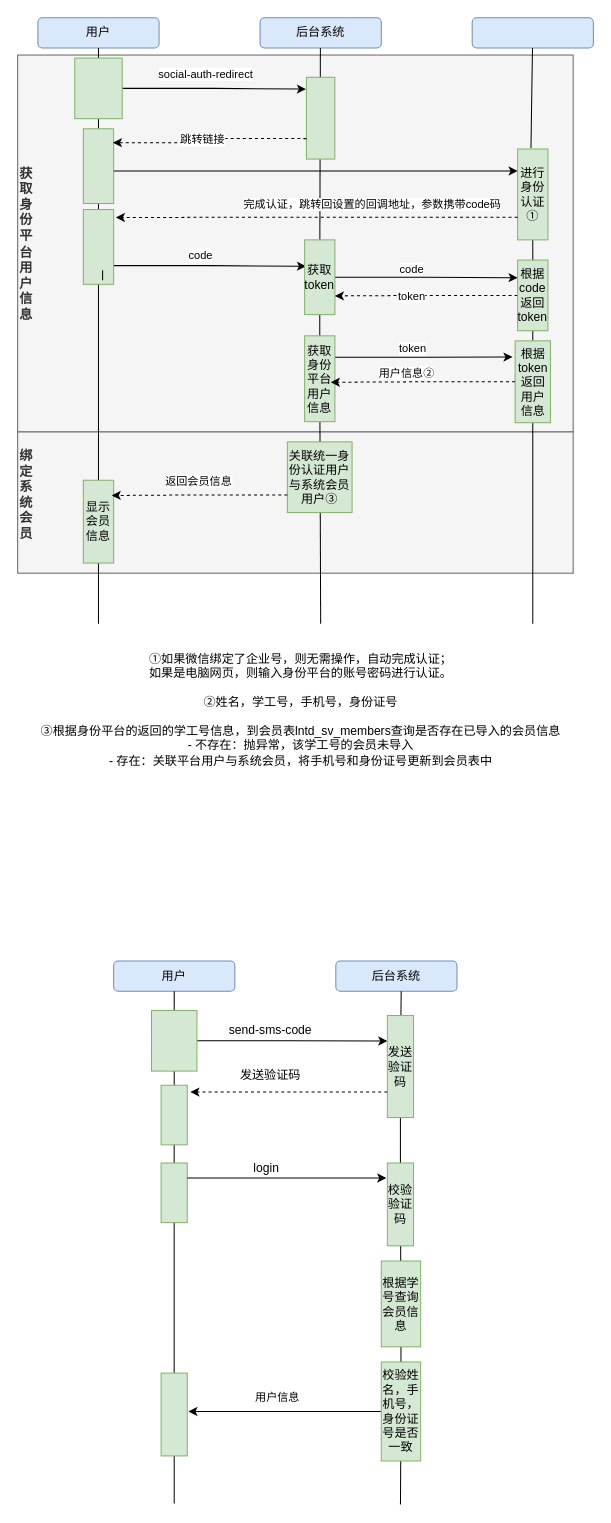
The diagram is 611 pixels wide and 1523 high, and some of its shapes have lost their labels. Here are the shapes that lost their labels. From the top down, the centre of each, then its label:
(x=532, y=32): 统一身份认证平台
(x=98, y=88): 点击“校内用户登陆”
(x=320, y=117): 返回填充了回调地址 跳转链接
(x=98, y=166): 跳转
(x=98, y=246): 调用auth/social-login
(x=173, y=1040): 输入信息
(x=173, y=1114): 填写验证码
(x=173, y=1192): 点击登录
(x=173, y=1414): 会员信息
